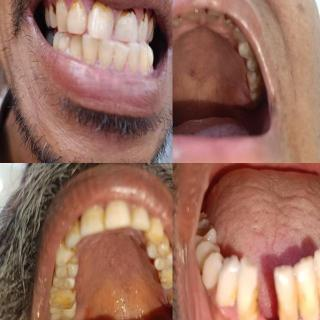calculus: (235, 297, 256, 320), (300, 302, 318, 320), (273, 311, 300, 320)
cavities: (200, 0, 214, 21), (223, 8, 231, 28), (175, 9, 184, 25)
maligned: (114, 40, 130, 68)
plaque: (107, 52, 117, 67), (75, 47, 85, 62), (63, 43, 71, 59)
stains: (88, 0, 110, 18), (70, 218, 85, 244), (92, 207, 108, 231), (68, 0, 85, 22), (118, 3, 136, 21), (126, 203, 138, 229), (146, 216, 158, 238), (138, 6, 148, 30), (68, 256, 84, 270), (49, 1, 61, 19), (146, 9, 156, 29), (165, 282, 172, 310), (70, 243, 78, 261), (69, 284, 79, 298), (54, 0, 66, 10)
